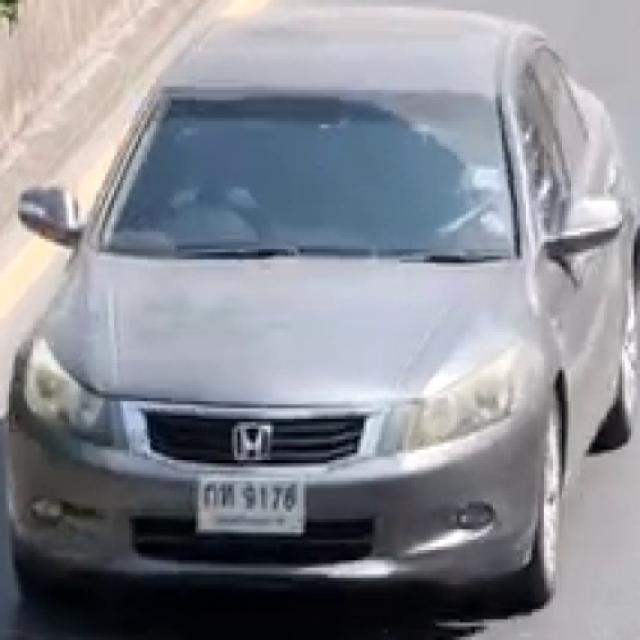plate: (199, 475, 306, 530)
